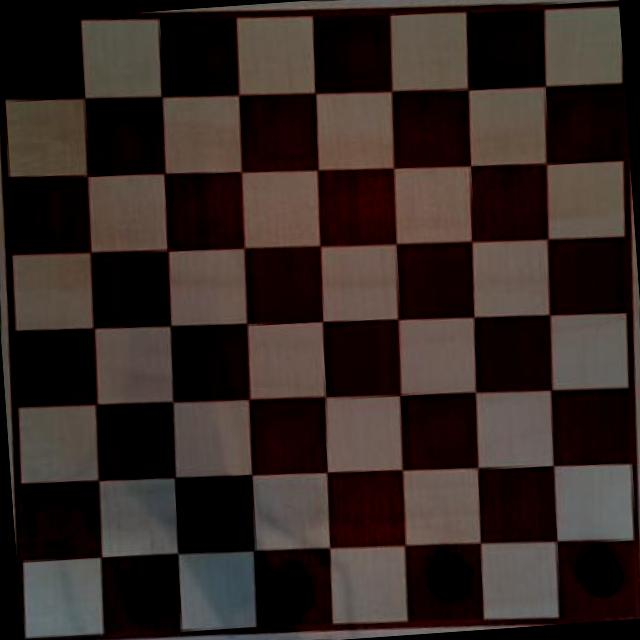BOARD: (0, 0, 640, 640)
black: (256, 556, 320, 620), (419, 544, 482, 608), (574, 545, 630, 600), (116, 567, 170, 623)
